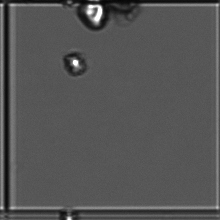Dead Cell: (113, 1, 143, 22)
Living Cell: (60, 50, 93, 81), (79, 4, 110, 34)
